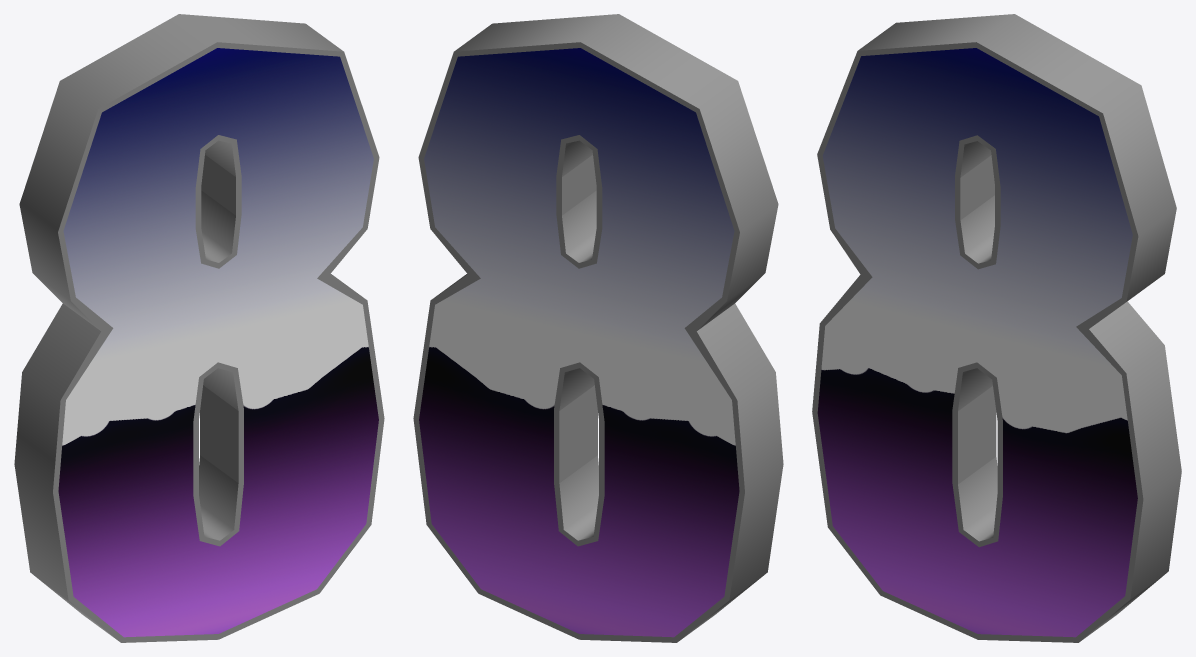
The picture shows the model from 3 angles, left to right: view 1: azimuth 30°, elevation 25°; view 2: azimuth 150°, elevation 25°; view 3: azimuth 330°, elevation 25°; orthographic projection.
Visible parts, largest first — view 1: 8, 8_outline; view 2: 8, 8_outline; view 3: 8, 8_outline.
Part boxes in pixels (box(x1,y1,x2,y2)): 8: box(58, 48, 378, 637); 8_outline: box(14, 14, 384, 642); 8: box(419, 48, 739, 637); 8_outline: box(413, 14, 783, 642); 8: box(817, 48, 1137, 637); 8_outline: box(812, 14, 1181, 642).
Bounding box in the file's own units: 59.75 × 103 × 12.
Materials: 2 (1 with a texture image).
